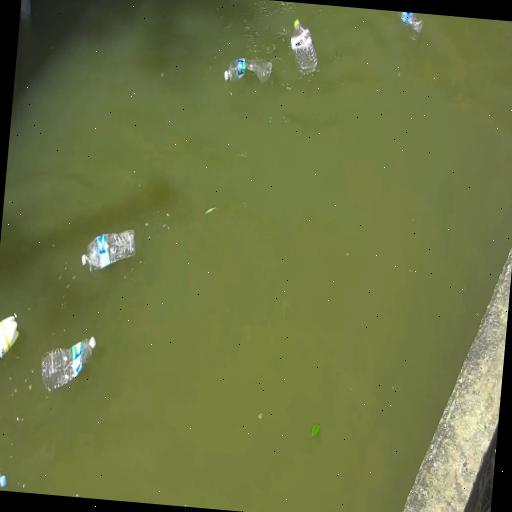plastic: (41, 337, 95, 391), (82, 229, 135, 272), (291, 20, 317, 75), (224, 59, 272, 83), (0, 314, 18, 359), (400, 12, 423, 32), (0, 472, 6, 487)
